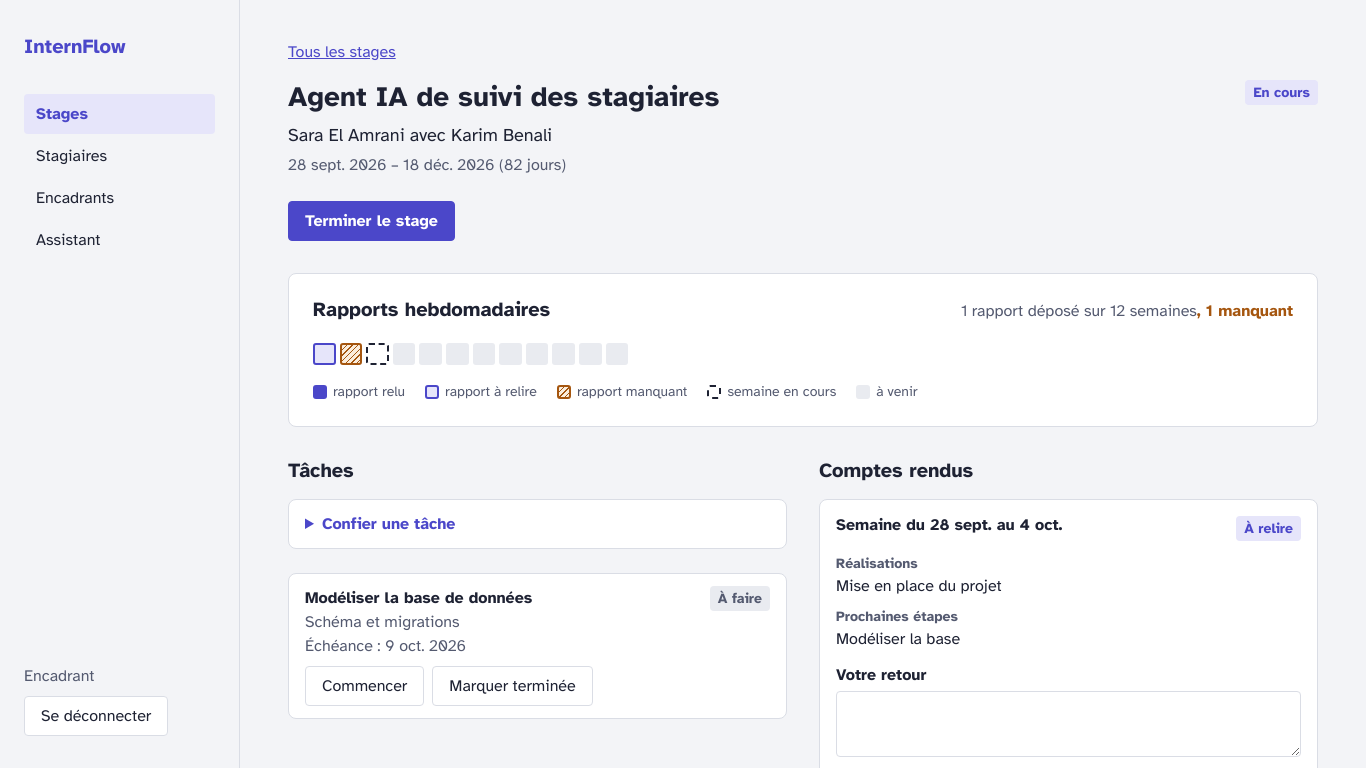
Test: page d'un stage › permet à l'encadrant de confier une tâche
Click the heading "Confier une tâche". click: (389, 524)
box: [322, 514, 455, 534]
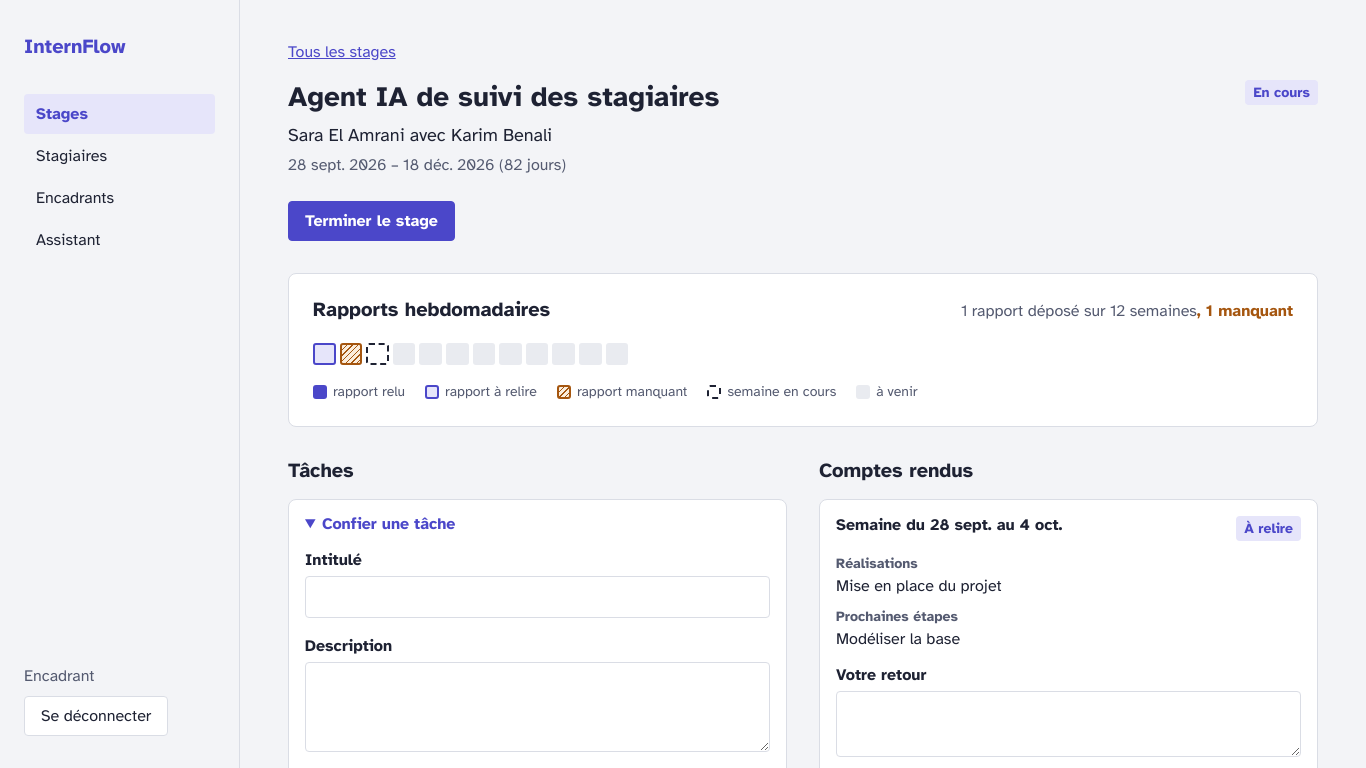
Type "Écrire les tests" into the field labelled "Intitulé". click: (538, 597)
box: [305, 576, 770, 618]
(page scrolled)
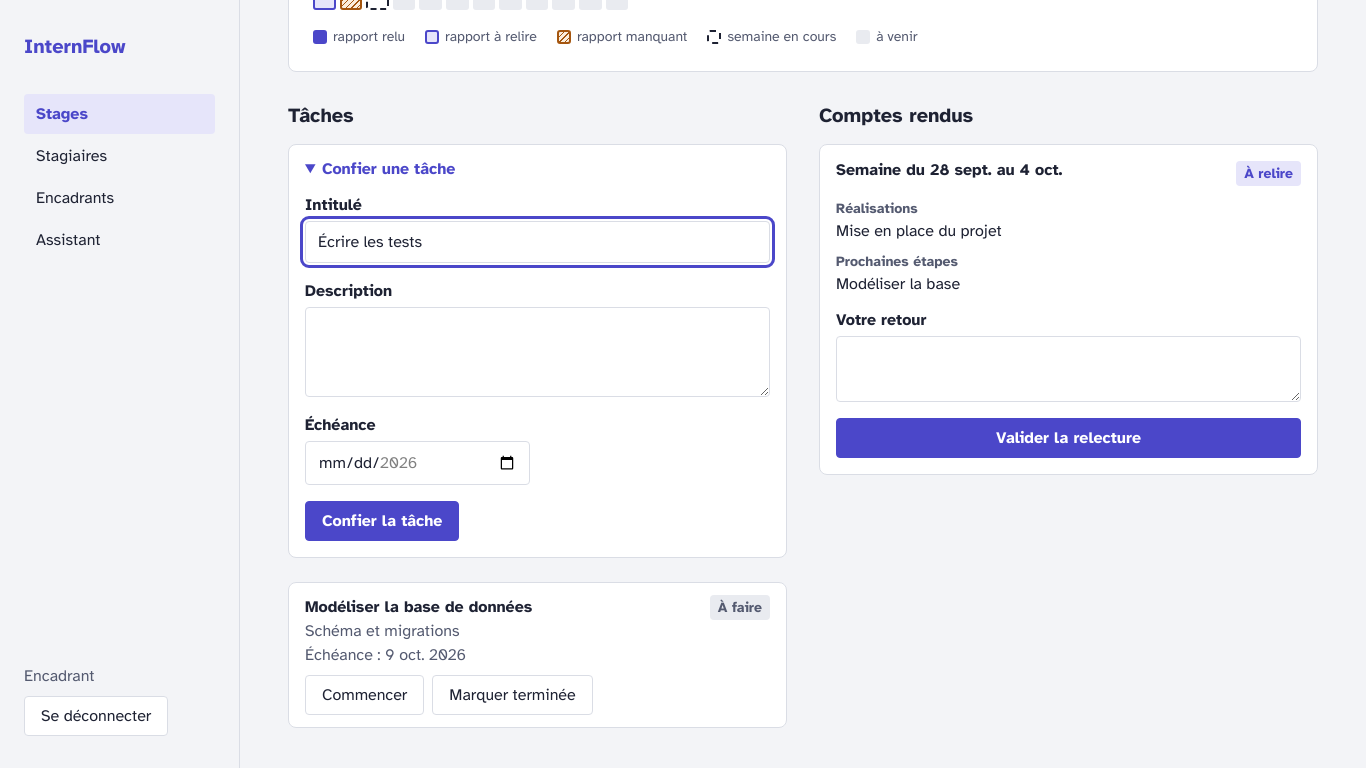
Type "2026-10-23" into the date field labelled "Échéance". click: (417, 463)
box: [305, 441, 530, 485]
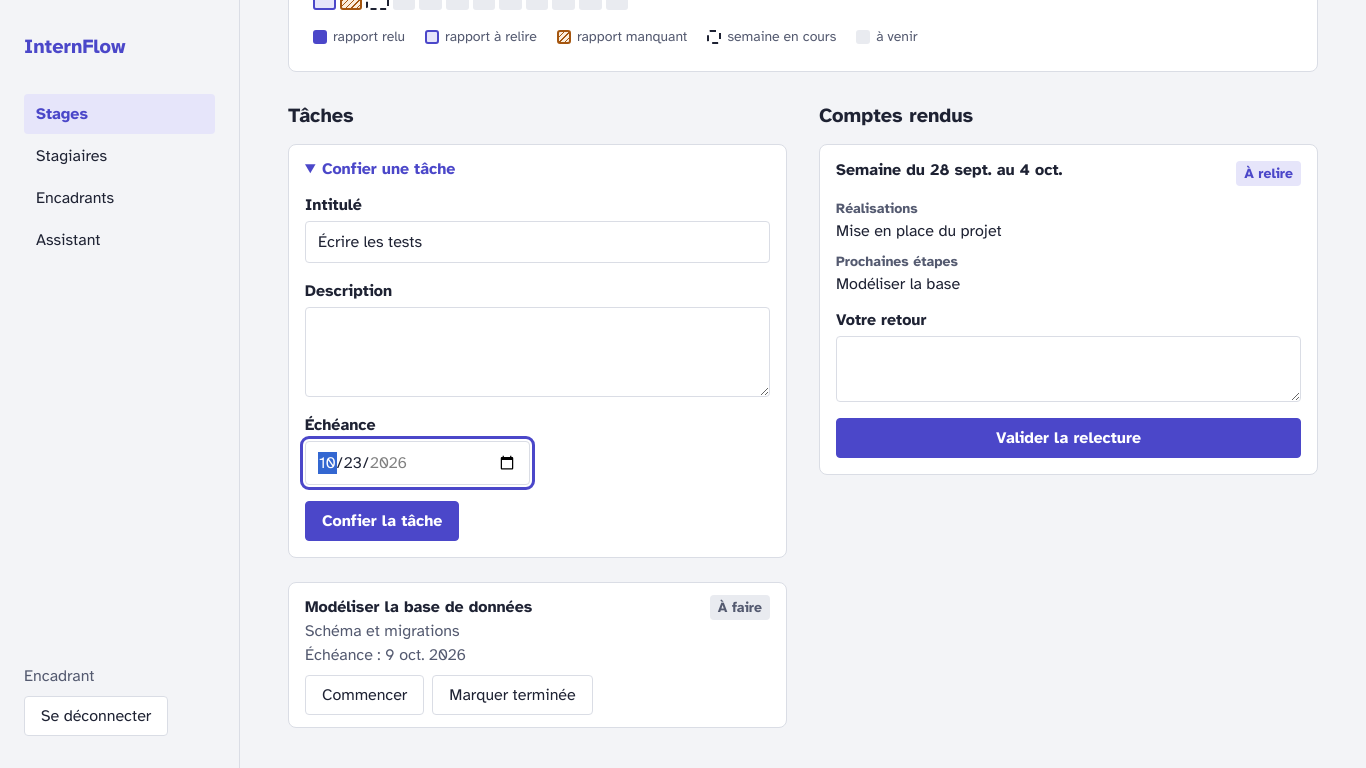
Click the button "Confier la tâche". click: (382, 521)
box: [305, 501, 459, 541]
(page scrolled)
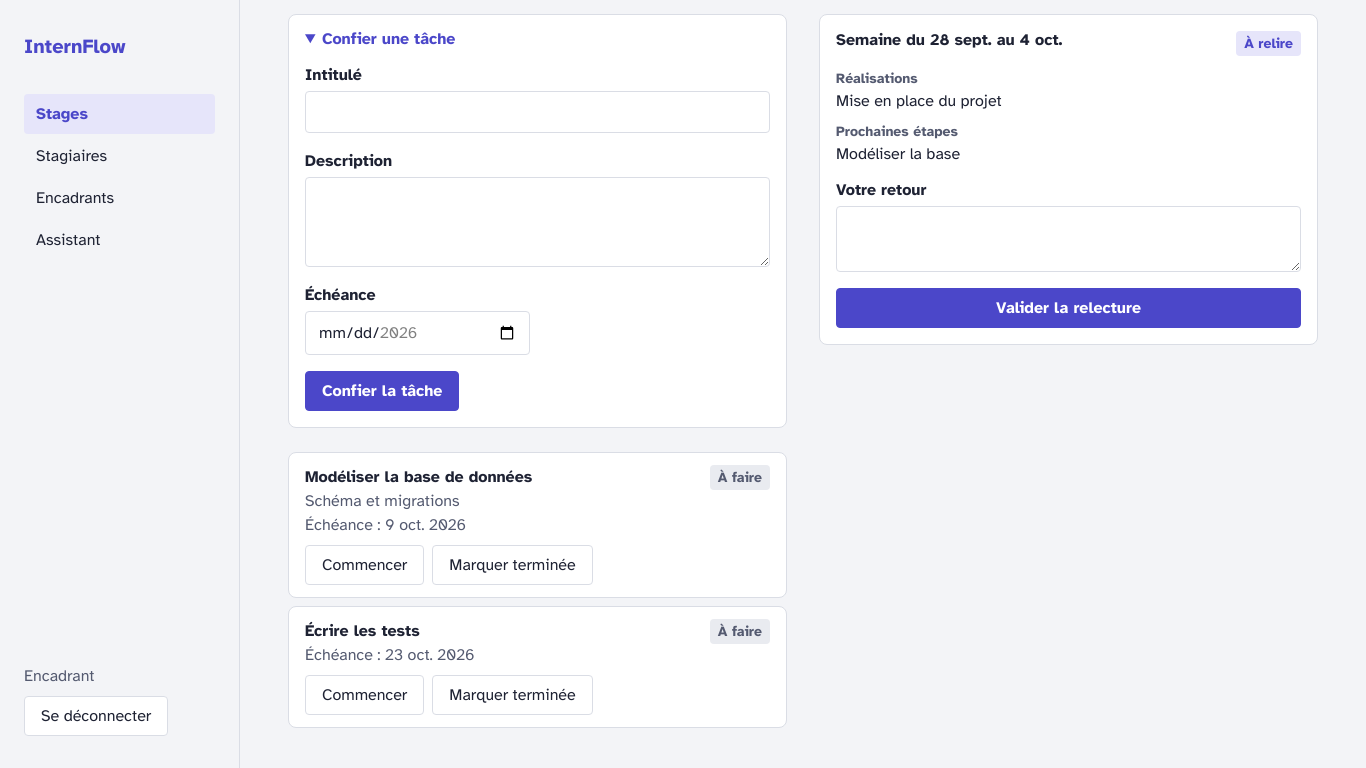
Expected: the text "Écrire les tests" is shown, [305, 621, 420, 641]
